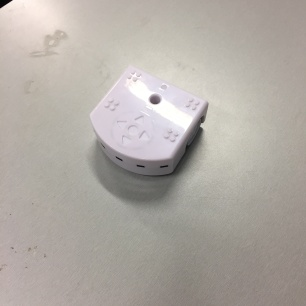thymio: (85, 59, 216, 186)
